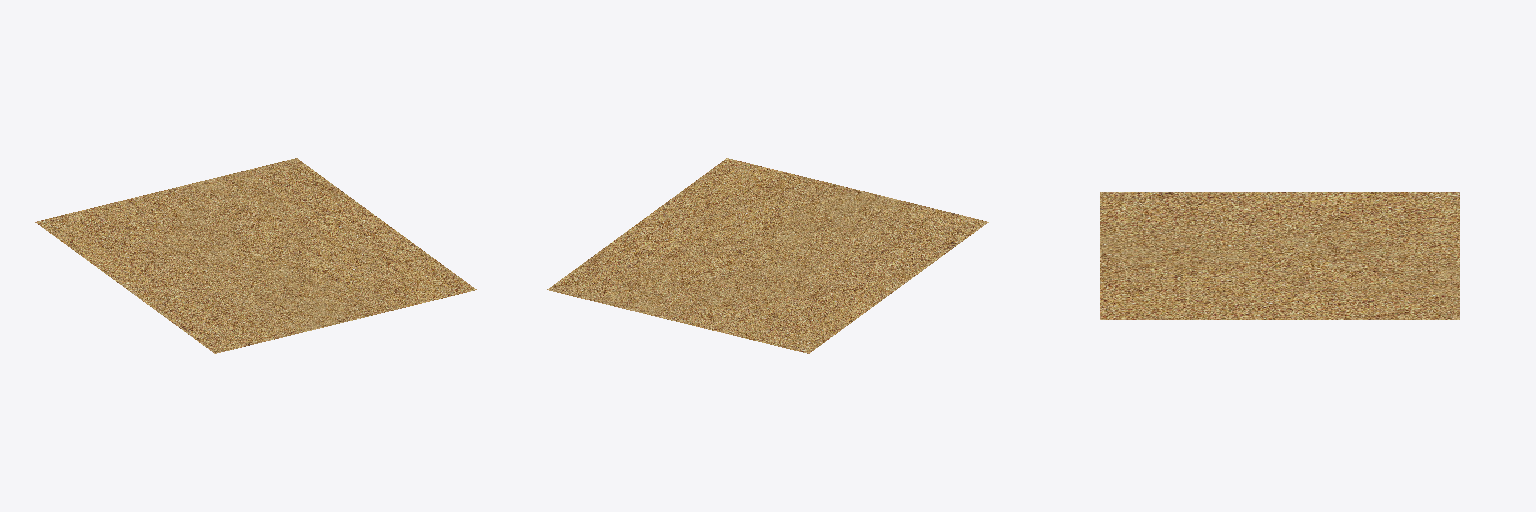
3 renders of one model, left to right at view 1: azimuth 30°, elevation 25°; view 2: azimuth 150°, elevation 25°; view 3: azimuth 270°, elevation 25°, orthographic.
Visible parts, largest first — view 1: ground.001; view 2: ground.001; view 3: ground.001.
Part boxes in pixels (x1,y1,x2,y2): ground.001: (35,158,476,353); ground.001: (547,158,988,353); ground.001: (1100,192,1459,319).
Bounding box in the file's own units: 674 × 0 × 804.
Materials: 1 (1 with a texture image).